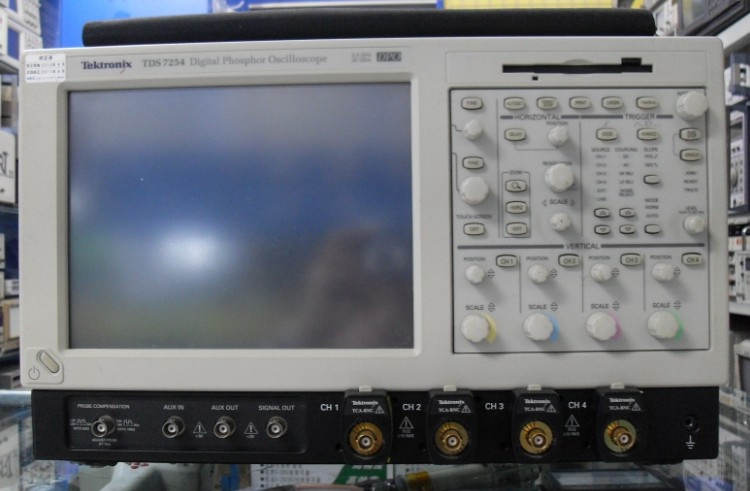Oscilloscope: (5, 5, 733, 481)
